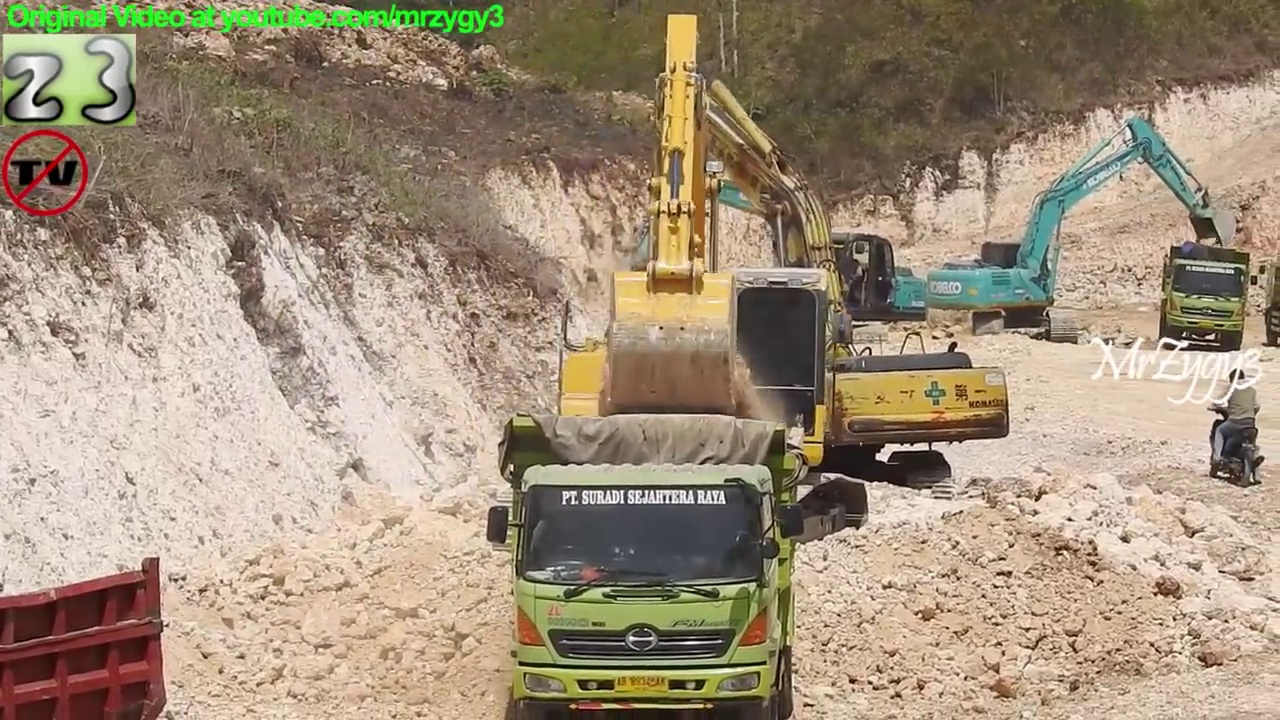excavator: (485, 6, 877, 567), (609, 62, 1019, 513), (924, 110, 1243, 345), (619, 151, 934, 351)
truck: (482, 407, 815, 720), (1, 550, 172, 720), (1153, 238, 1261, 357), (1253, 254, 1280, 354)
